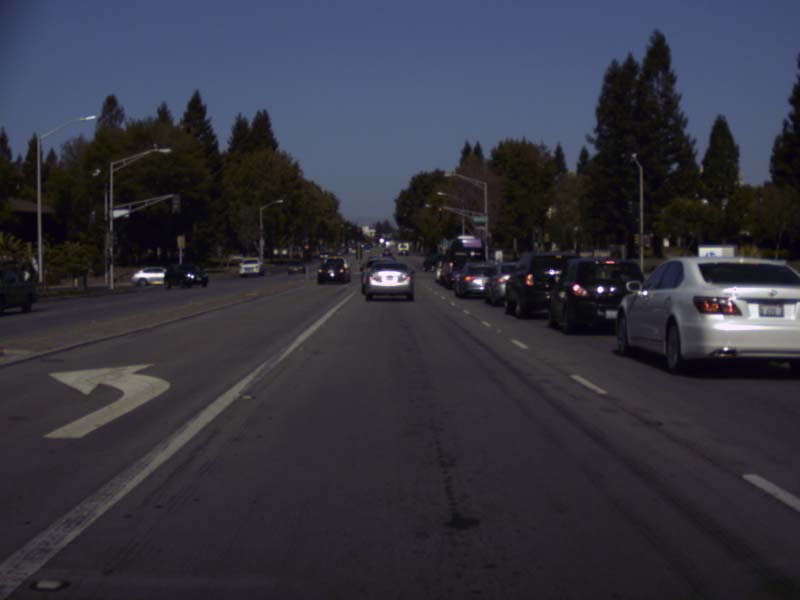Red: (532, 225, 542, 243), (303, 242, 312, 261), (436, 207, 443, 221), (355, 227, 361, 240)
